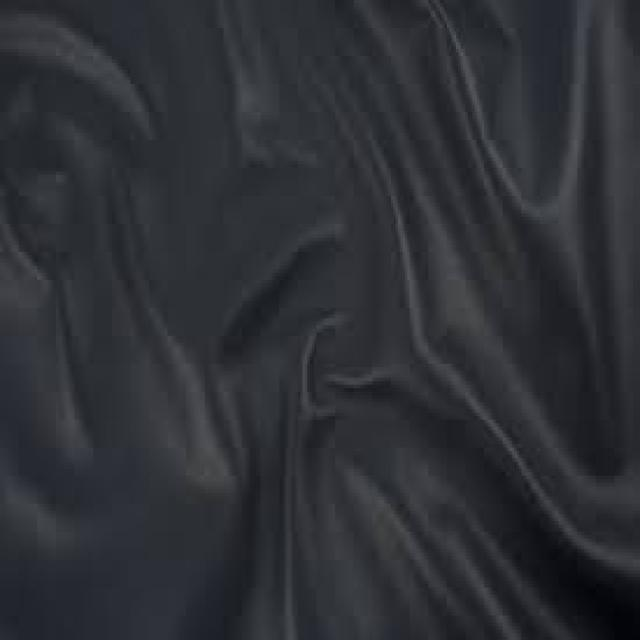Crease: (330, 451, 520, 617), (356, 44, 504, 249)
